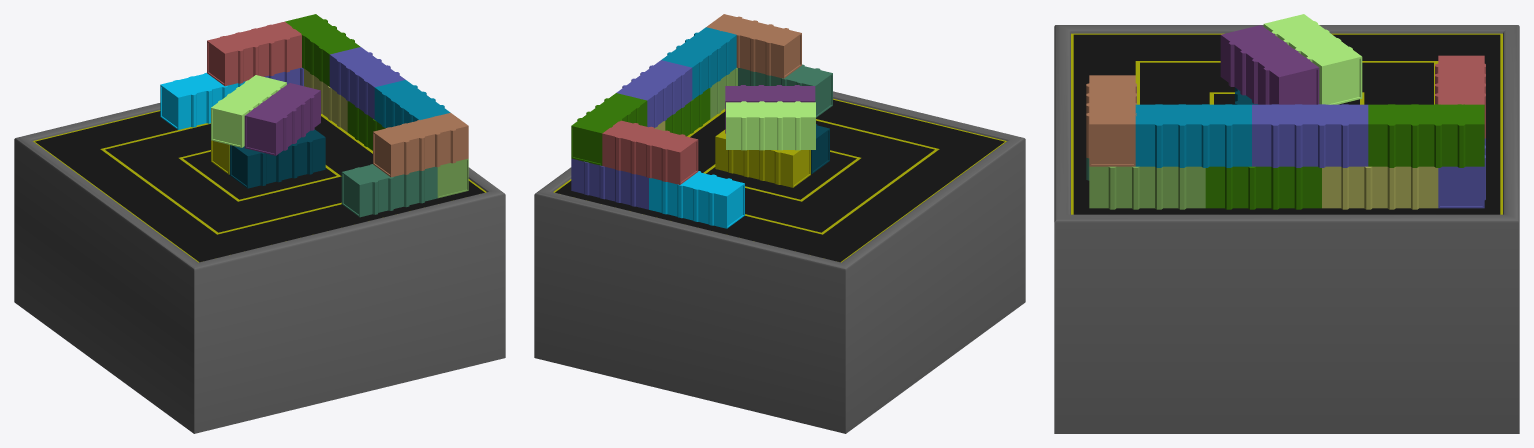
File: Shipyard.fbx
3 renders of one model, left to right at view 1: azimuth 30°, elevation 25°; view 2: azimuth 150°, elevation 25°; view 3: azimuth 270°, elevation 25°, orthographic. The views are drawn at different scales.
Visible parts, largest first — view 1: Cube; view 2: Cube; view 3: Cube.
Part boxes in pixels (<box>): Cube: <box>14,14,505,433</box>; Cube: <box>534,14,1025,433</box>; Cube: <box>1054,14,1519,433</box>.
Size of the model in its own units: 4000 by 2797 by 4000.
